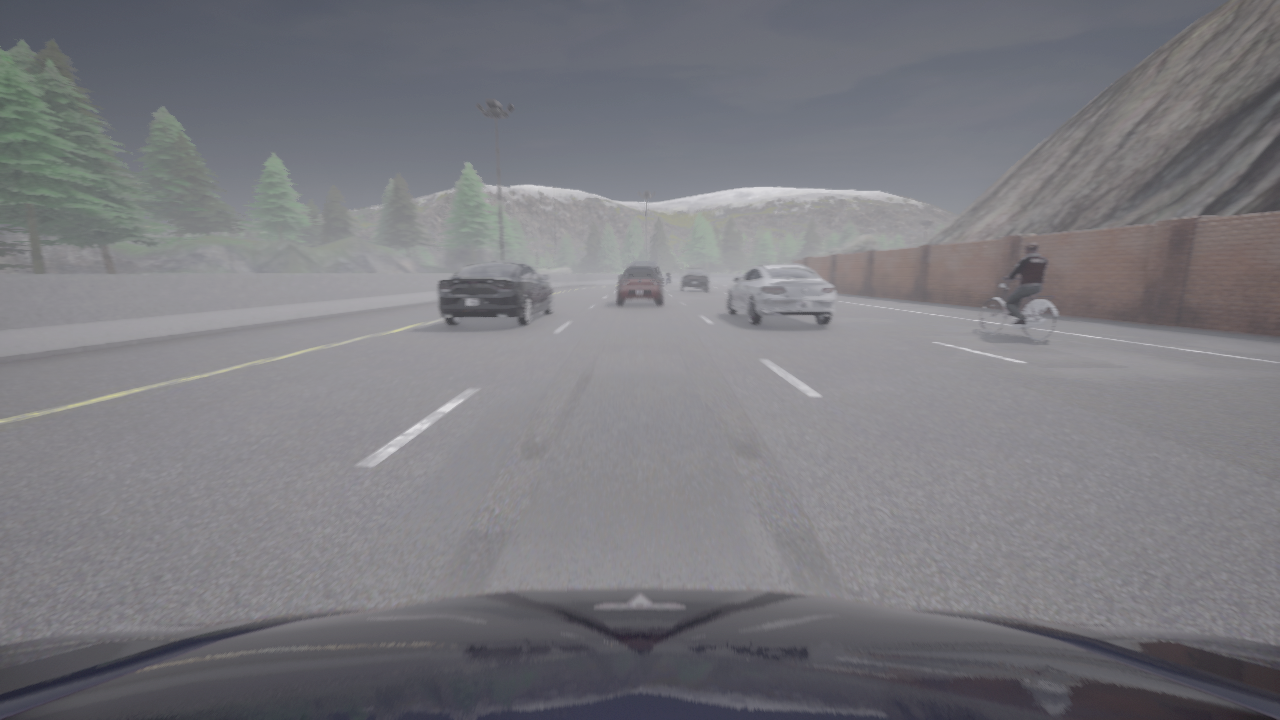cyclist: (0, 588, 1279, 719), (437, 260, 553, 325), (727, 264, 835, 325), (980, 277, 1057, 340), (617, 267, 662, 305), (627, 261, 662, 286), (679, 267, 708, 291), (664, 274, 673, 285)
